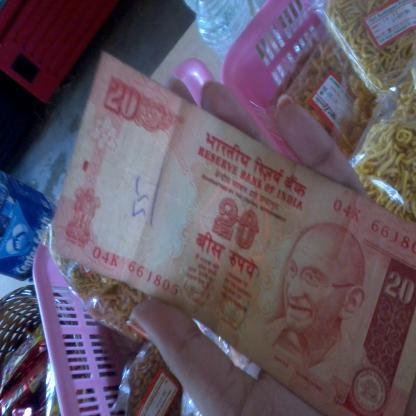Old20Front: (51, 51, 416, 416)
